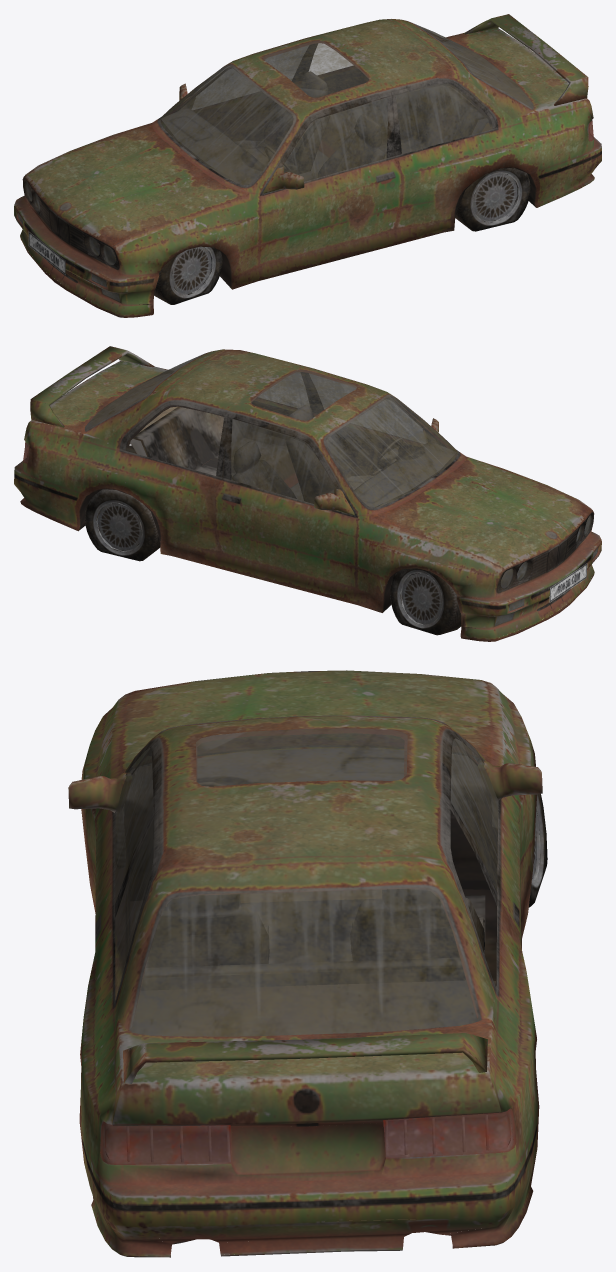
Rendered from bmw-abandoned-car.glb.
3 renders of one model, top to bottom at view 1: azimuth 30°, elevation 25°; view 2: azimuth 150°, elevation 25°; view 3: azimuth 270°, elevation 25°, orthographic. The views are drawn at different scales.
Parts seen in each view (by area): view 1: Object_3, Object_2; view 2: Object_3, Object_2; view 3: Object_3, Object_2.
Part boxes in pixels (<box>): Object_3: <box>14,19,601,316</box>; Object_2: <box>14,14,601,317</box>; Object_3: <box>14,349,600,641</box>; Object_2: <box>14,346,601,641</box>; Object_3: <box>68,670,542,1256</box>; Object_2: <box>69,728,547,1257</box>.
Size of the model in its own units: 4326 by 1295 by 1756.
1 material, 1 textured.
